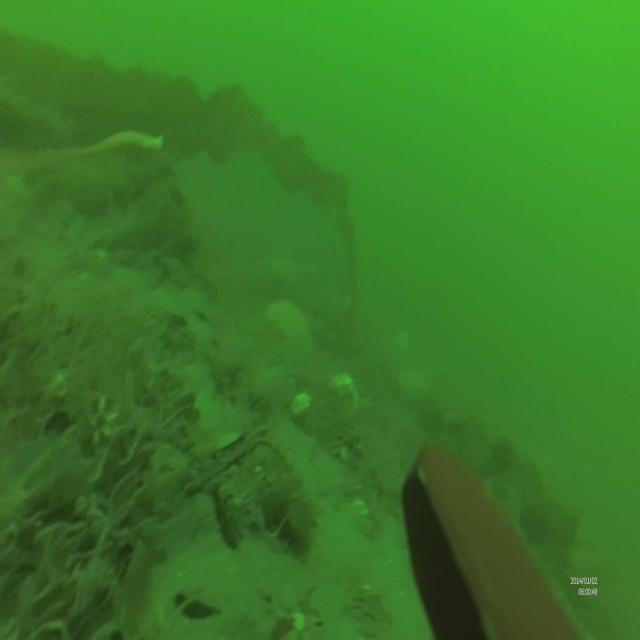scallop: (400, 367, 428, 406), (288, 390, 312, 419), (331, 372, 353, 400)
starfish: (266, 299, 312, 351)
